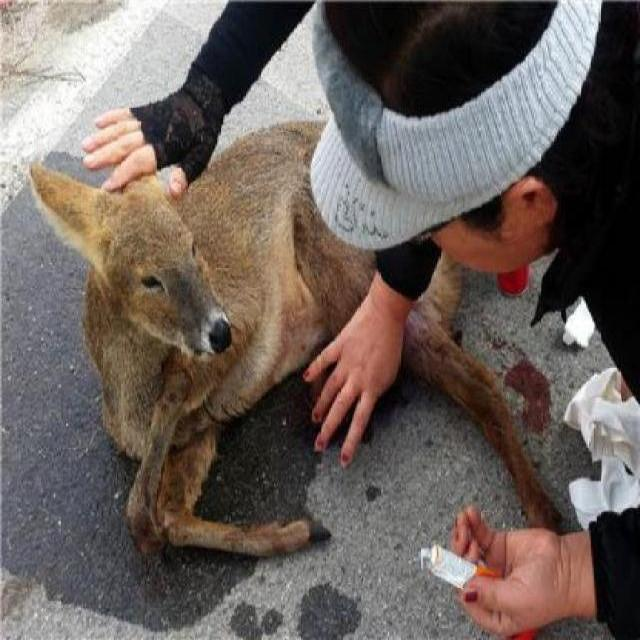deer: (21, 143, 316, 594)
